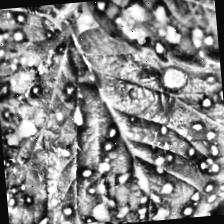Leaf Spot: (0, 0, 224, 224), (79, 0, 220, 77), (0, 3, 81, 54)
